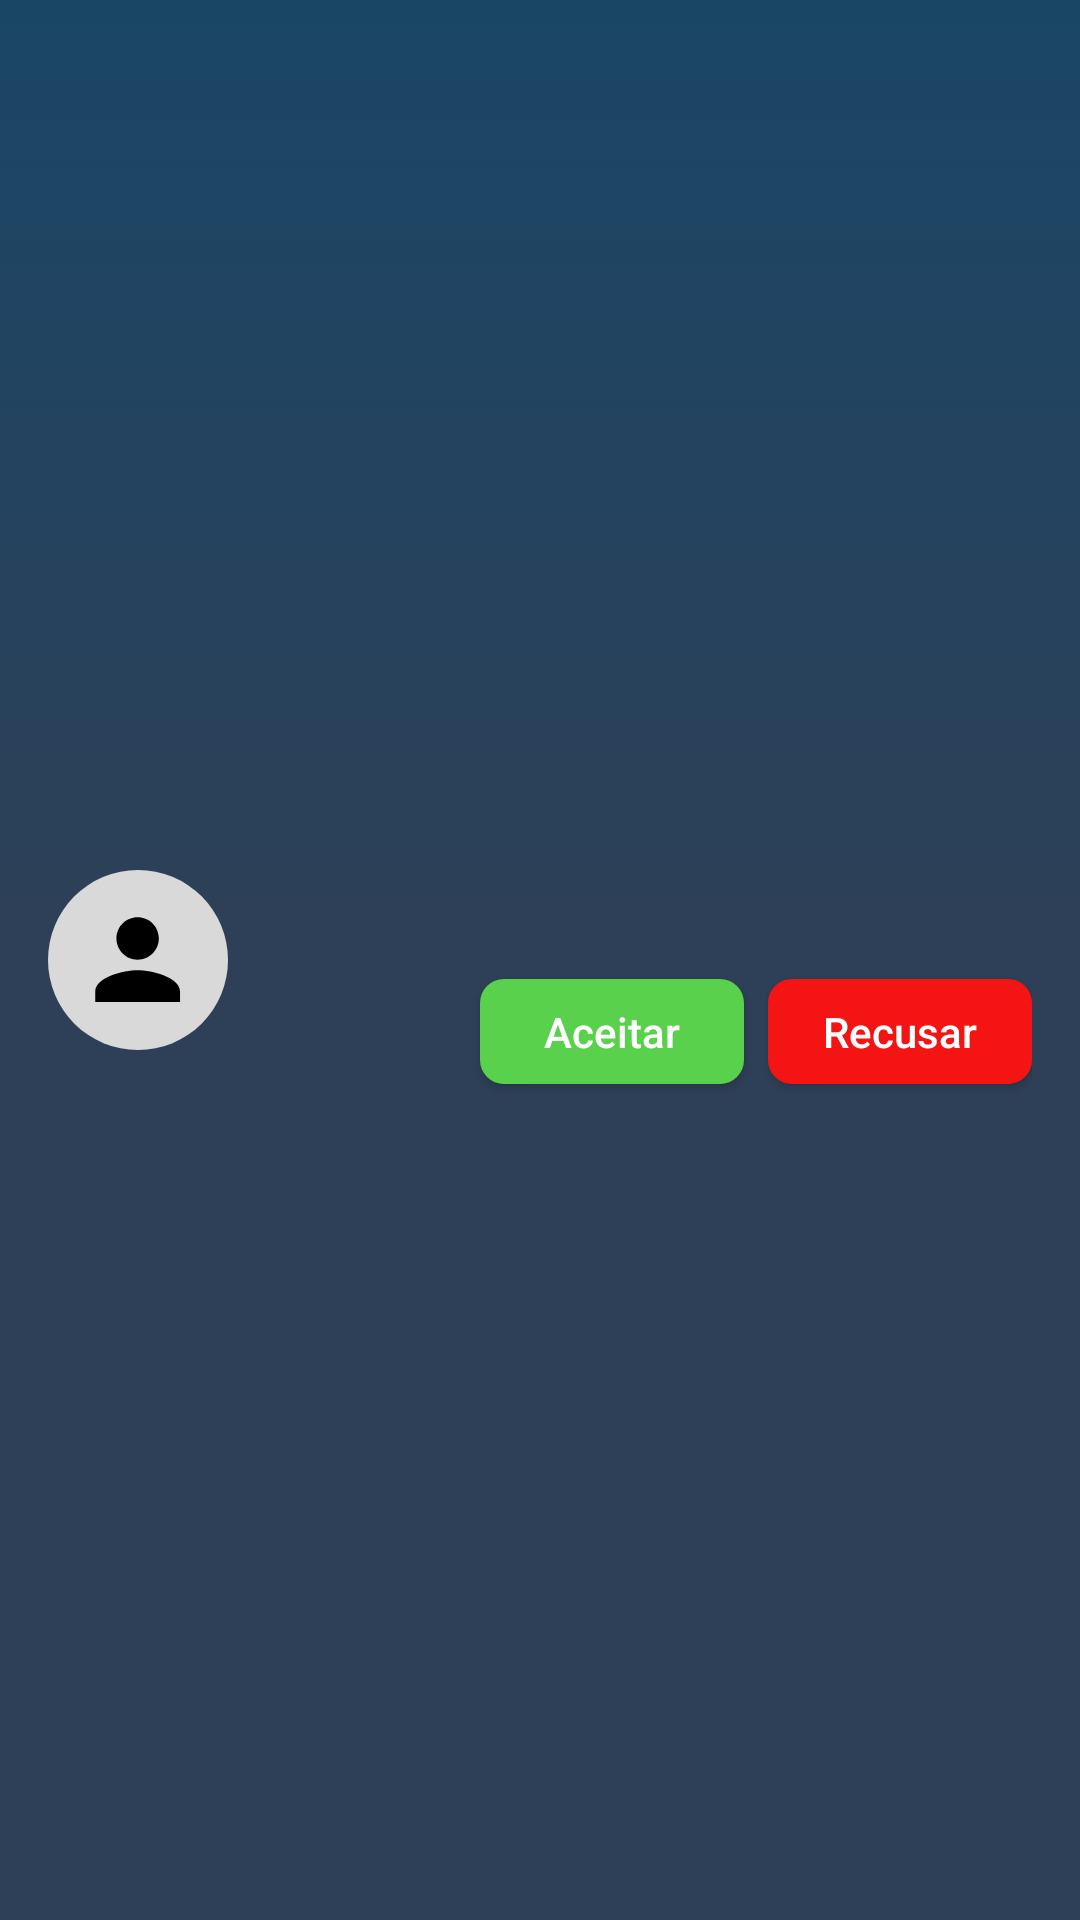

Screen size 1080px×1920px. Icon name, then its box in pixels as Rect(x1, y1, x2, y2):
generic pf: Rect(48, 870, 228, 1050)
